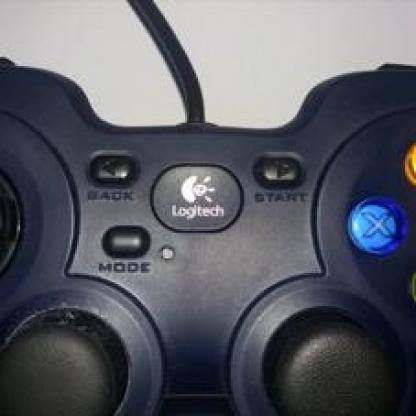gamepad: (0, 33, 414, 368)
